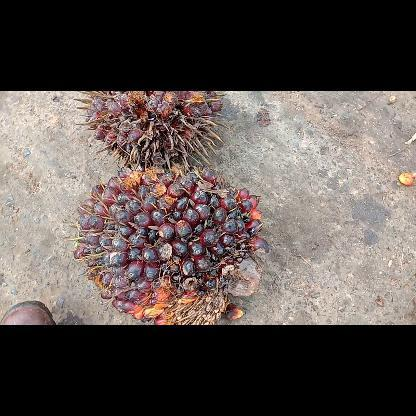Kurang masak: (66, 162, 268, 324)
TBS masak: (75, 91, 225, 169)
